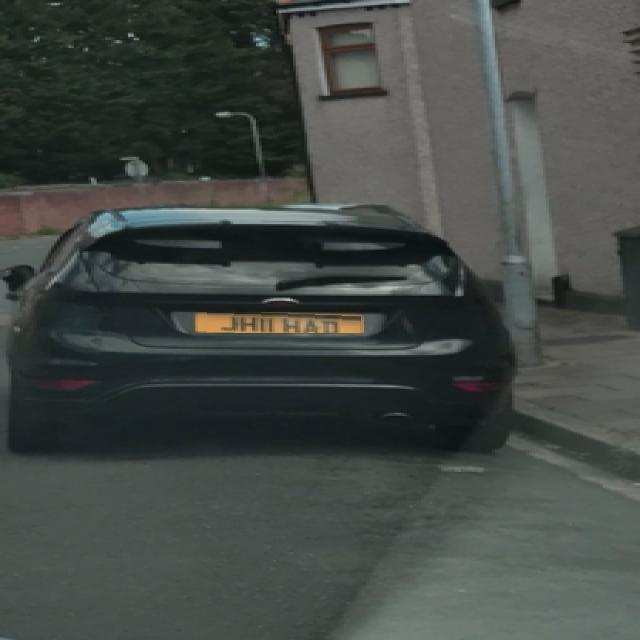licence: (194, 310, 362, 333)
